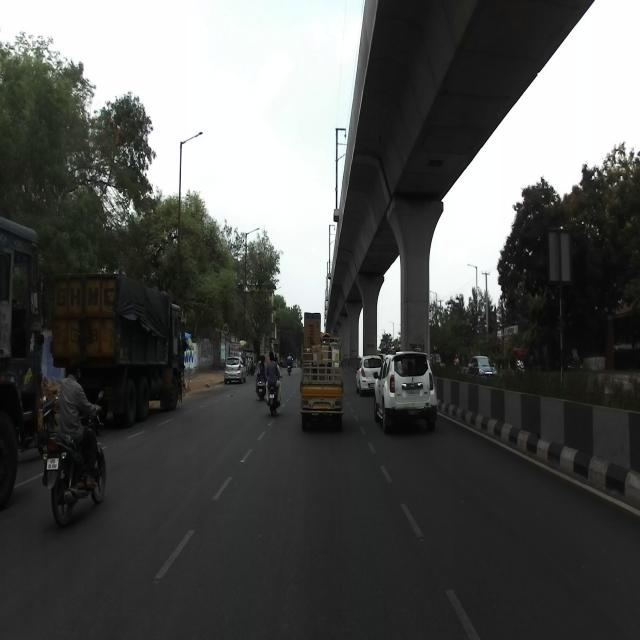Car_Renault: (373, 347, 437, 434)
motorcycle_Hero: (42, 390, 106, 527)
truck: (50, 273, 187, 427), (299, 312, 345, 433)
